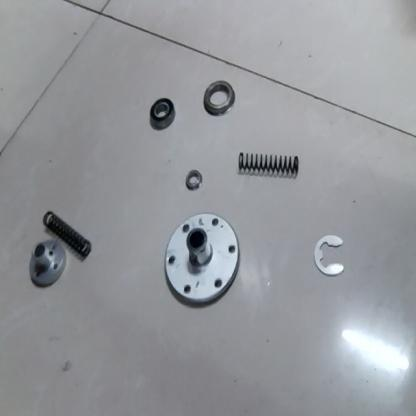FOD: (162, 210, 242, 310), (42, 207, 96, 264), (26, 235, 67, 289), (233, 152, 303, 178), (311, 233, 349, 279), (200, 78, 236, 118), (144, 96, 178, 134), (184, 167, 203, 195)
